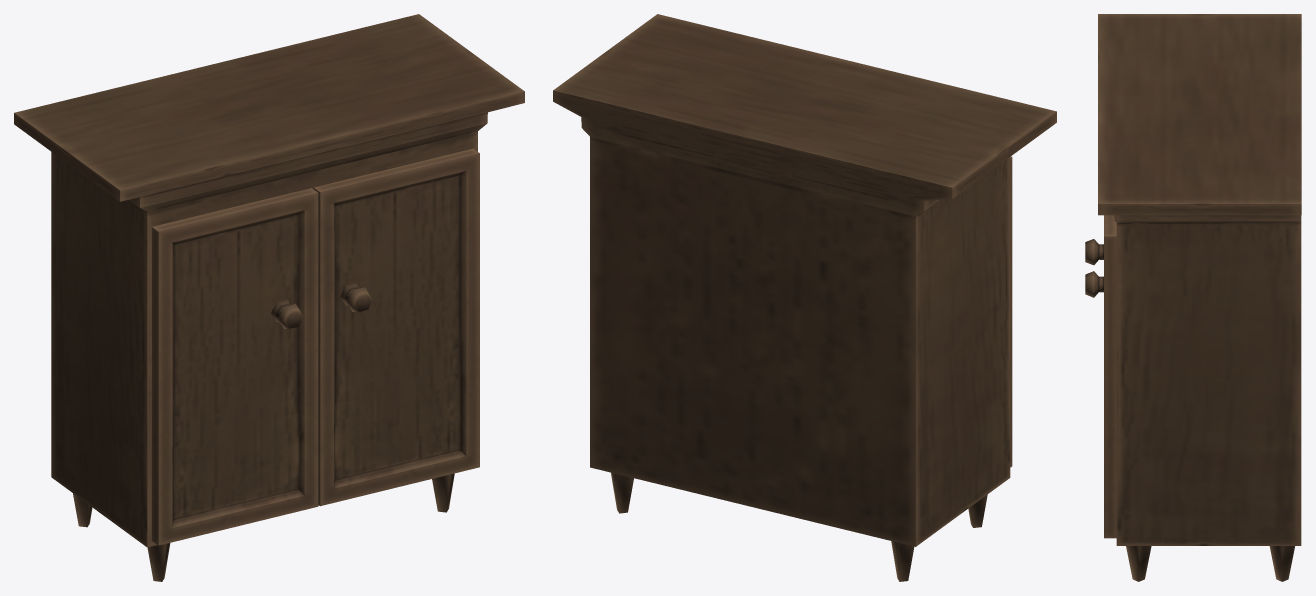
Rendered from Wardrobe_4.fbx.
3 views of the same model, side by side, from view 1: azimuth 30°, elevation 25°; view 2: azimuth 150°, elevation 25°; view 3: azimuth 270°, elevation 25° (orthographic). The views are drawn at different scales.
Visible parts, largest first — view 1: Wardrobe_4, Door_L.001, Door_R.001; view 2: Wardrobe_4, Door_L.001; view 3: Wardrobe_4, Door_R.001, Door_L.001.
Part boxes in pixels (bbox=[...]): Wardrobe_4: bbox=[14, 14, 524, 581]; Door_L.001: bbox=[152, 188, 318, 545]; Door_R.001: bbox=[313, 148, 479, 506]; Wardrobe_4: bbox=[553, 14, 1056, 581]; Door_L.001: bbox=[1010, 156, 1012, 467]; Wardrobe_4: bbox=[1098, 14, 1301, 581]; Door_R.001: bbox=[1085, 215, 1116, 538]; Door_L.001: bbox=[1085, 239, 1103, 265].
Bounding box in the file's own units: 171 × 169 × 81.99.
